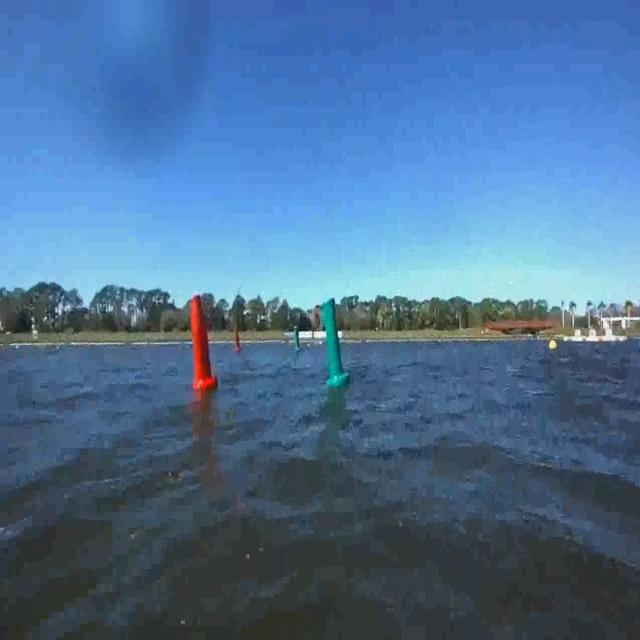green-column-buoy: (320, 299, 350, 388), (294, 331, 302, 354)
red-column-buoy: (188, 294, 216, 391), (232, 325, 243, 357)
